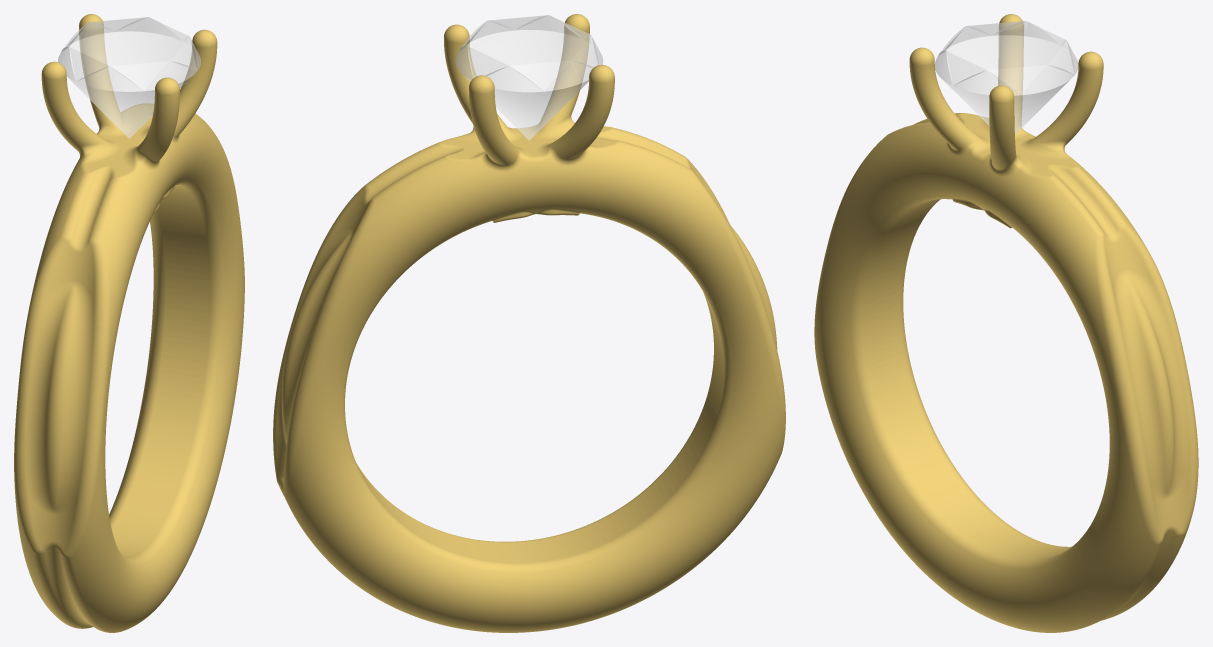
The model's file is anel.glb.
3 renders of one model, left to right at view 1: azimuth 30°, elevation 25°; view 2: azimuth 150°, elevation 25°; view 3: azimuth 270°, elevation 25°, orthographic. The views are drawn at different scales.
Parts seen in each view (by area): view 1: Object_2, Object_3, Object_4; view 2: Object_2, Object_3, Object_4; view 3: Object_2, Object_3, Object_4.
Part boxes in pixels (<box>): Object_2: <box>14,14,244,631</box>; Object_3: <box>18,137,244,632</box>; Object_4: <box>58,17,200,138</box>; Object_2: <box>273,14,785,632</box>; Object_3: <box>276,165,785,571</box>; Object_4: <box>455,15,603,140</box>; Object_2: <box>814,14,1198,622</box>; Object_3: <box>814,160,1196,632</box>; Object_4: <box>934,21,1078,134</box>.
Bounding box in the file's own units: 11.59 × 17.45 × 10.68.
